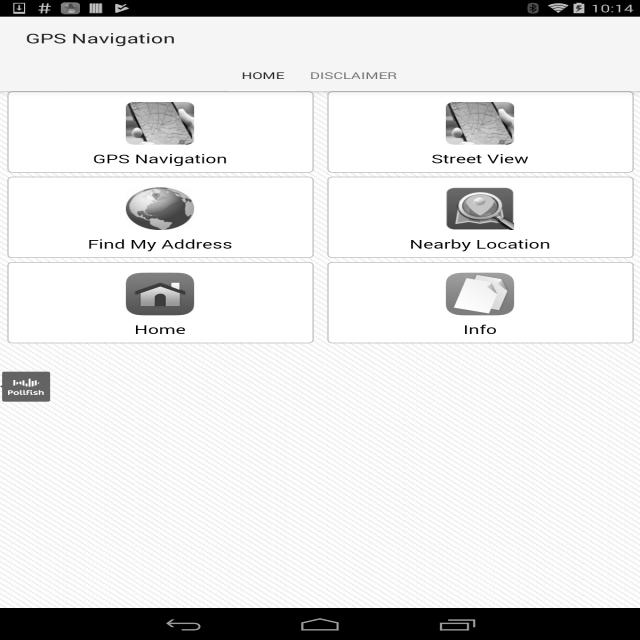Button: (0, 372, 50, 402)
TextView: (26, 29, 176, 47), (310, 69, 398, 82), (242, 69, 284, 82)
